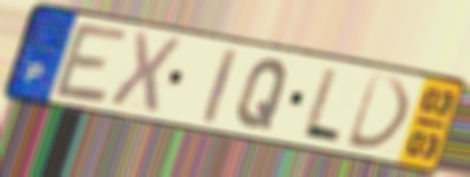D: (343, 70, 415, 154)
E: (50, 20, 132, 108)
I: (200, 44, 241, 127)
L: (297, 64, 345, 146)
Q: (233, 56, 292, 133)
X: (104, 27, 184, 115)
